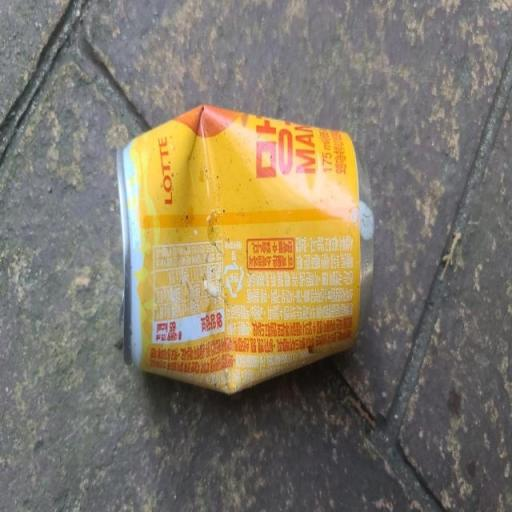metal: (86, 64, 429, 462)
